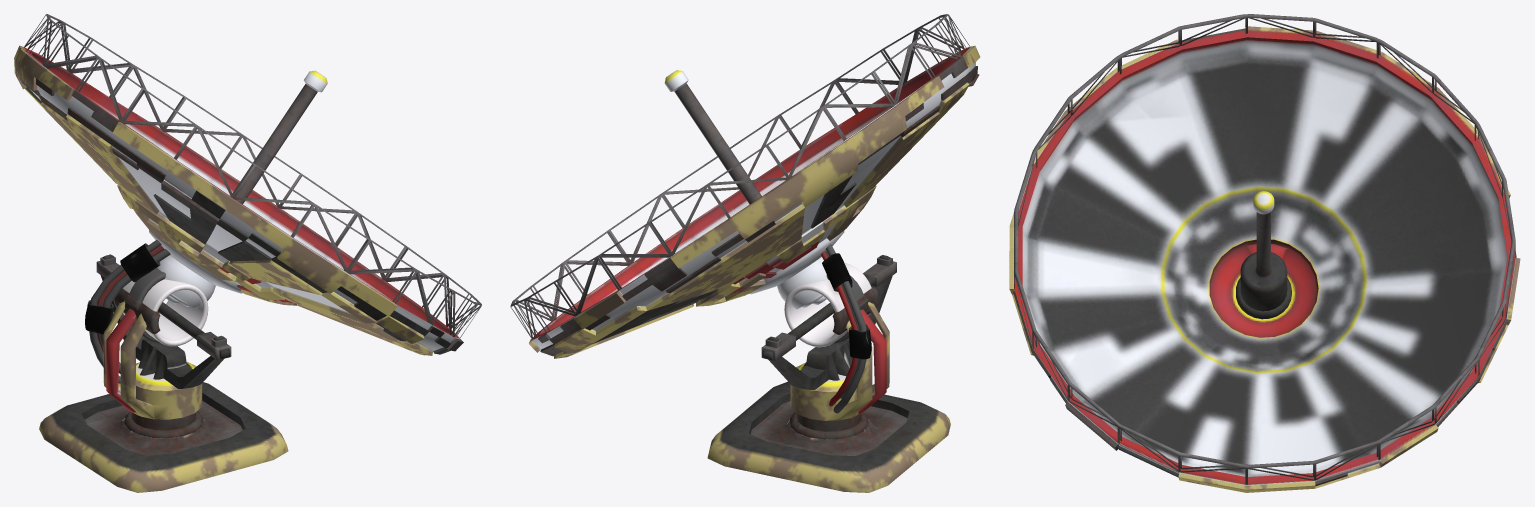
Rendered from RadioDish.glb.
3 renders of one model, left to right at view 1: azimuth 30°, elevation 25°; view 2: azimuth 150°, elevation 25°; view 3: azimuth 270°, elevation 25°, orthographic. The views are drawn at different scales.
Parts seen in each view (by area): view 1: RadioDish_Baked; view 2: RadioDish_Baked; view 3: RadioDish_Baked.
Boxes of the visible parts, x1,y1,x2,y2 form: RadioDish_Baked: (14,14,481,492); RadioDish_Baked: (510,14,980,492); RadioDish_Baked: (1009,14,1520,492).
Size of the model in its own units: 8.86 by 9.07 by 10.74.
1 material, 1 textured.
